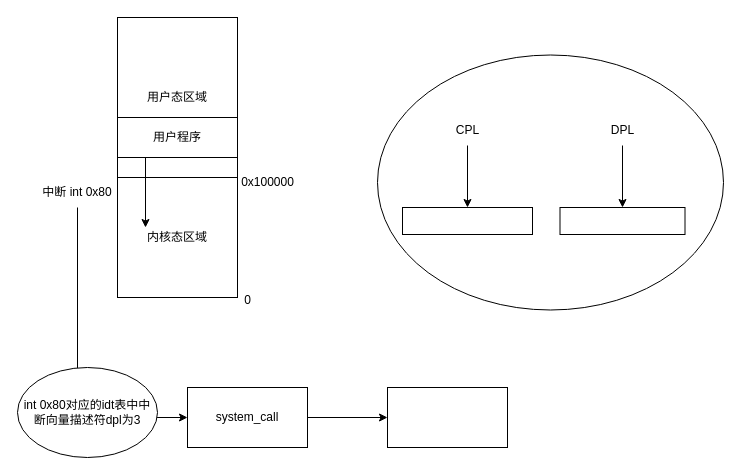
The diagram is 741 pixels wide and 475 high, and some of its shapes have lost their labels. The box of each missing label's shape, as (x1, y1, x2, y2) in pixels:
cs寄存器的段描述符中: (402, 206, 532, 234)
system_call_table[n]: (386, 386, 508, 448)
对应段的段描述符中: (559, 206, 685, 234)
